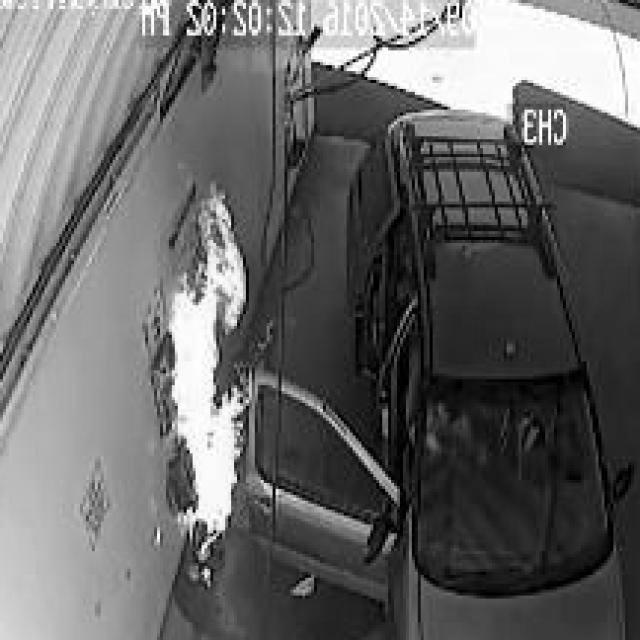smoke: (151, 180, 255, 552)
